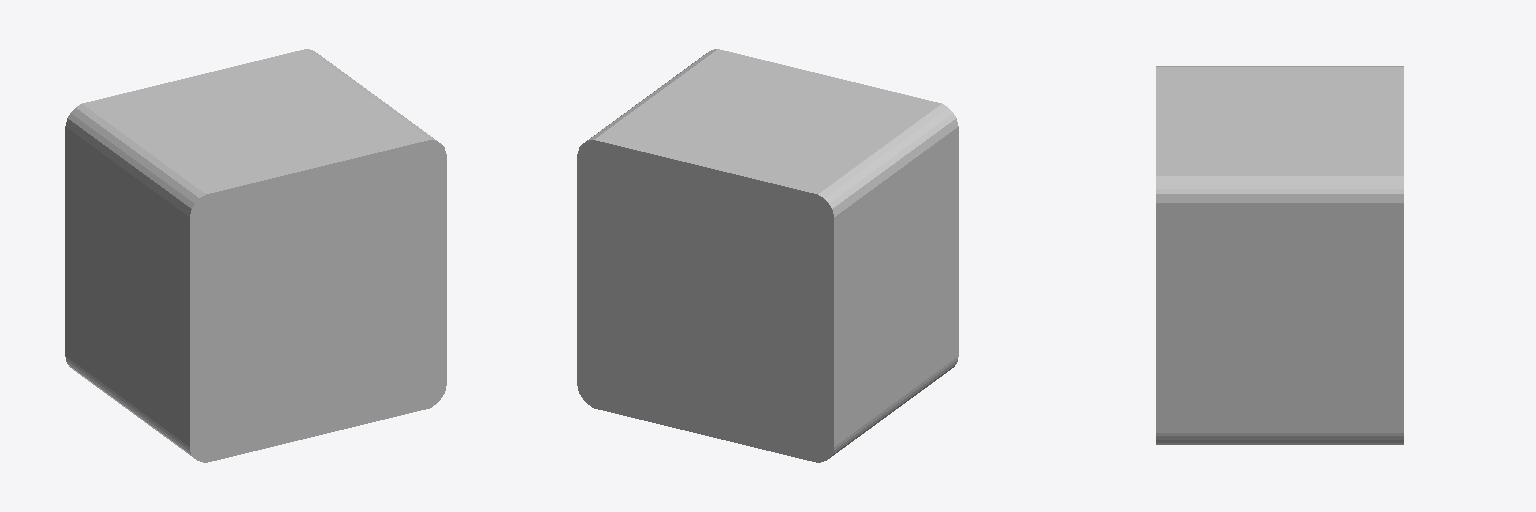
File: Bird.obj
The picture shows the model from 3 angles: view 1: azimuth 30°, elevation 25°; view 2: azimuth 150°, elevation 25°; view 3: azimuth 270°, elevation 25°; orthographic projection.
Parts seen in each view (by area): view 1: Bird; view 2: Bird; view 3: Bird.
Part boxes in pixels (x1,y1,x2,y2): Bird: (65,49,446,462); Bird: (577,49,958,462); Bird: (1156,66,1403,444).
Size of the model in its own units: 5.36 by 5.35 by 4.48.